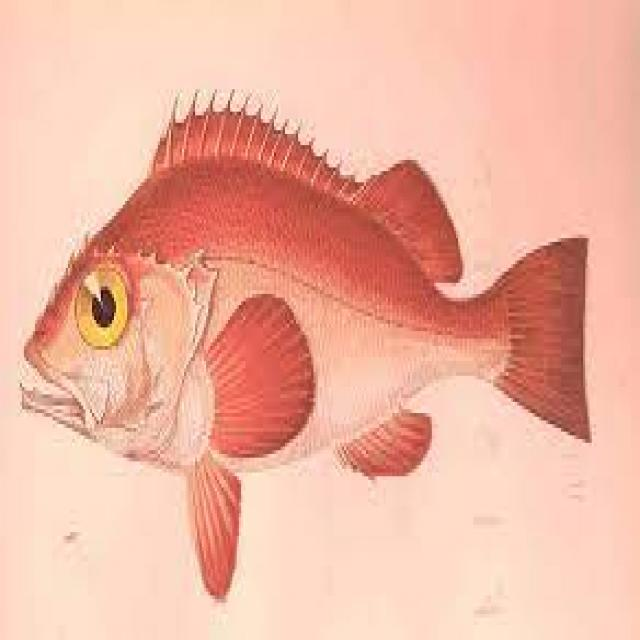northern-red-snapper: (14, 49, 611, 600)
